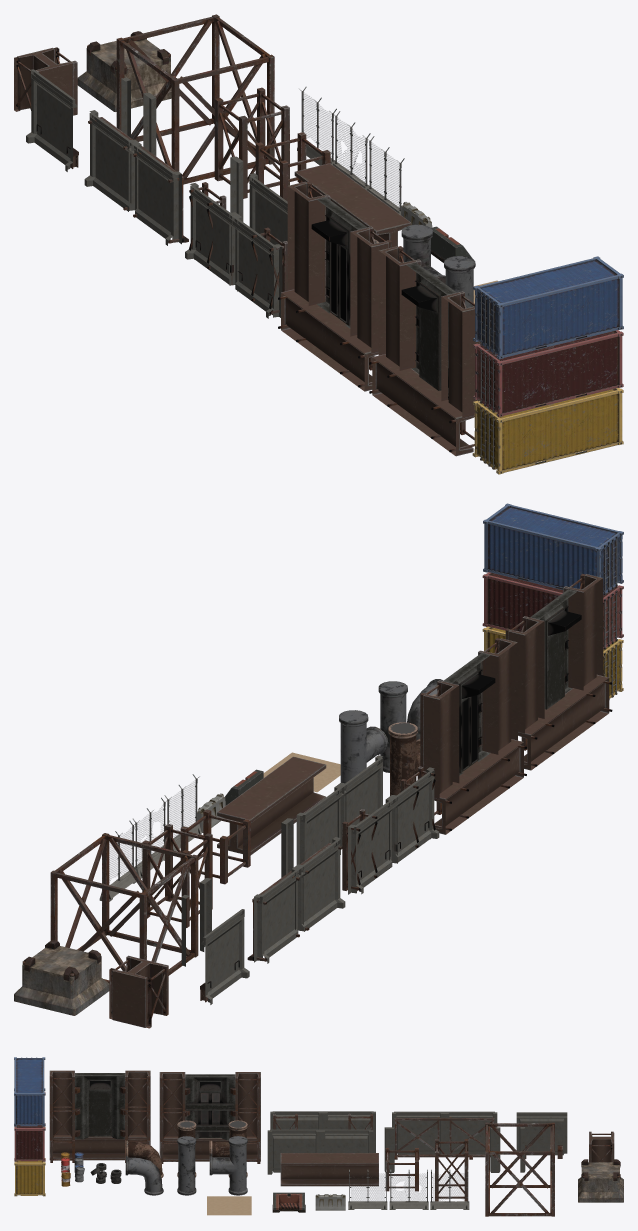
The model's file is SUP_industrial_asset_pack_free.glb.
3 views of the same model, one above another, from view 1: azimuth 30°, elevation 25°; view 2: azimuth 150°, elevation 25°; view 3: azimuth 270°, elevation 25° (orthographic). The views are drawn at different scales.
Parts seen in each view (by area): view 1: SUP_industrial_asset_pack_free; view 2: SUP_industrial_asset_pack_free; view 3: SUP_industrial_asset_pack_free.
Boxes of the visible parts, x1=… form: SUP_industrial_asset_pack_free: x1=14, y1=14, x2=623, y2=474; SUP_industrial_asset_pack_free: x1=14, y1=503, x2=623, y2=1028; SUP_industrial_asset_pack_free: x1=14, y1=1057, x2=623, y2=1216.
Bounding box in the file's own units: 12.04 × 9.9 × 49.36.
15 materials, 15 textured.
